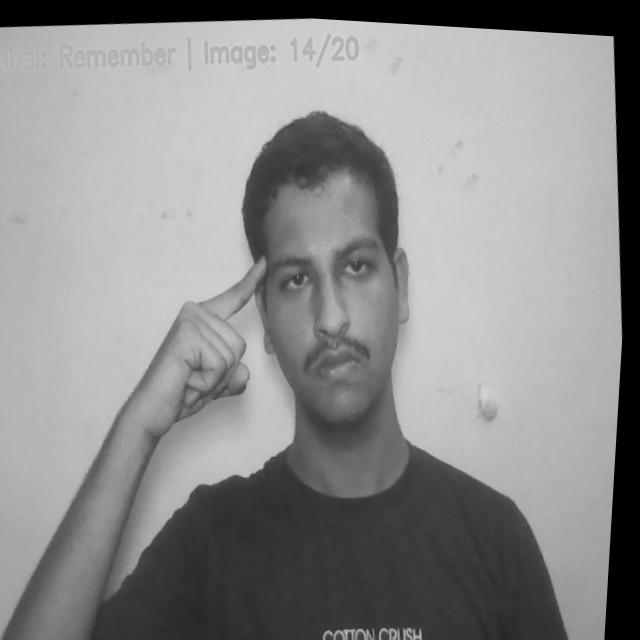Remember: (119, 242, 284, 445)
